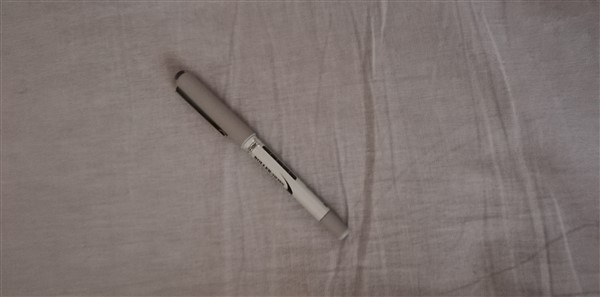pilot kalem: (169, 66, 357, 245)
